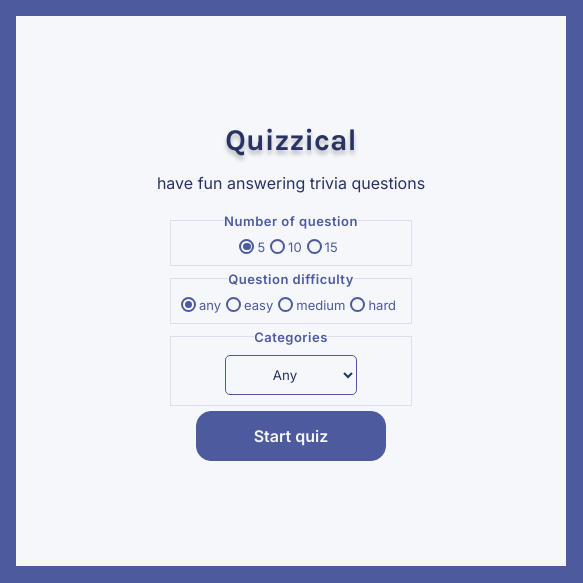
it: App component › difficulty radio inputs
Check: the radio button labelled "any" is checked, box x1=181 y1=297 x2=196 y2=312
Click the radio button labelled "medium" at (286, 304), box x1=278 y1=297 x2=293 y2=312
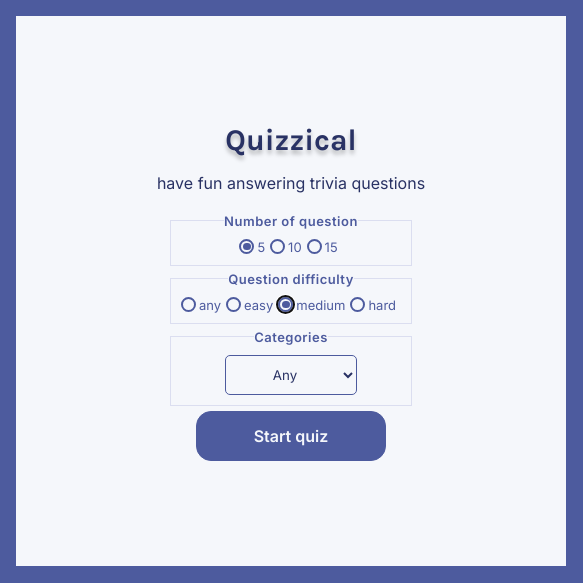
Check: the radio button labelled "medium" is checked, box x1=278 y1=297 x2=293 y2=312
Check: the radio button labelled "any" is not checked, box x1=181 y1=297 x2=196 y2=312
